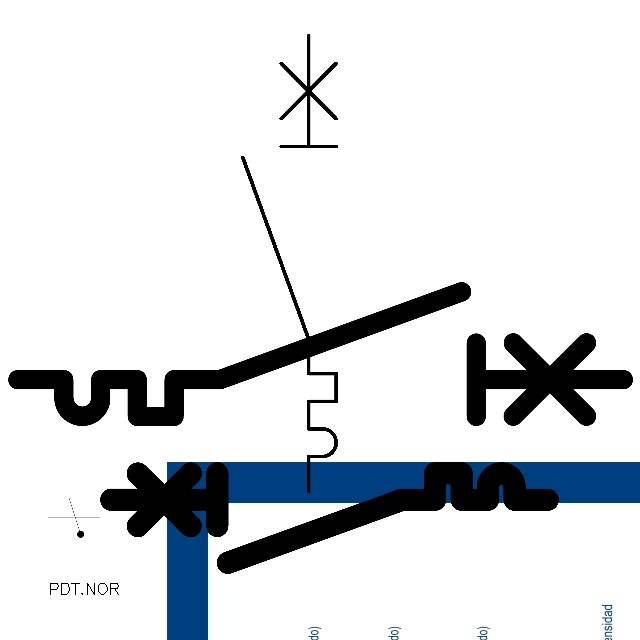interruptor_termomagnetico: (2, 276, 639, 432), (231, 24, 348, 503), (99, 462, 558, 574)
